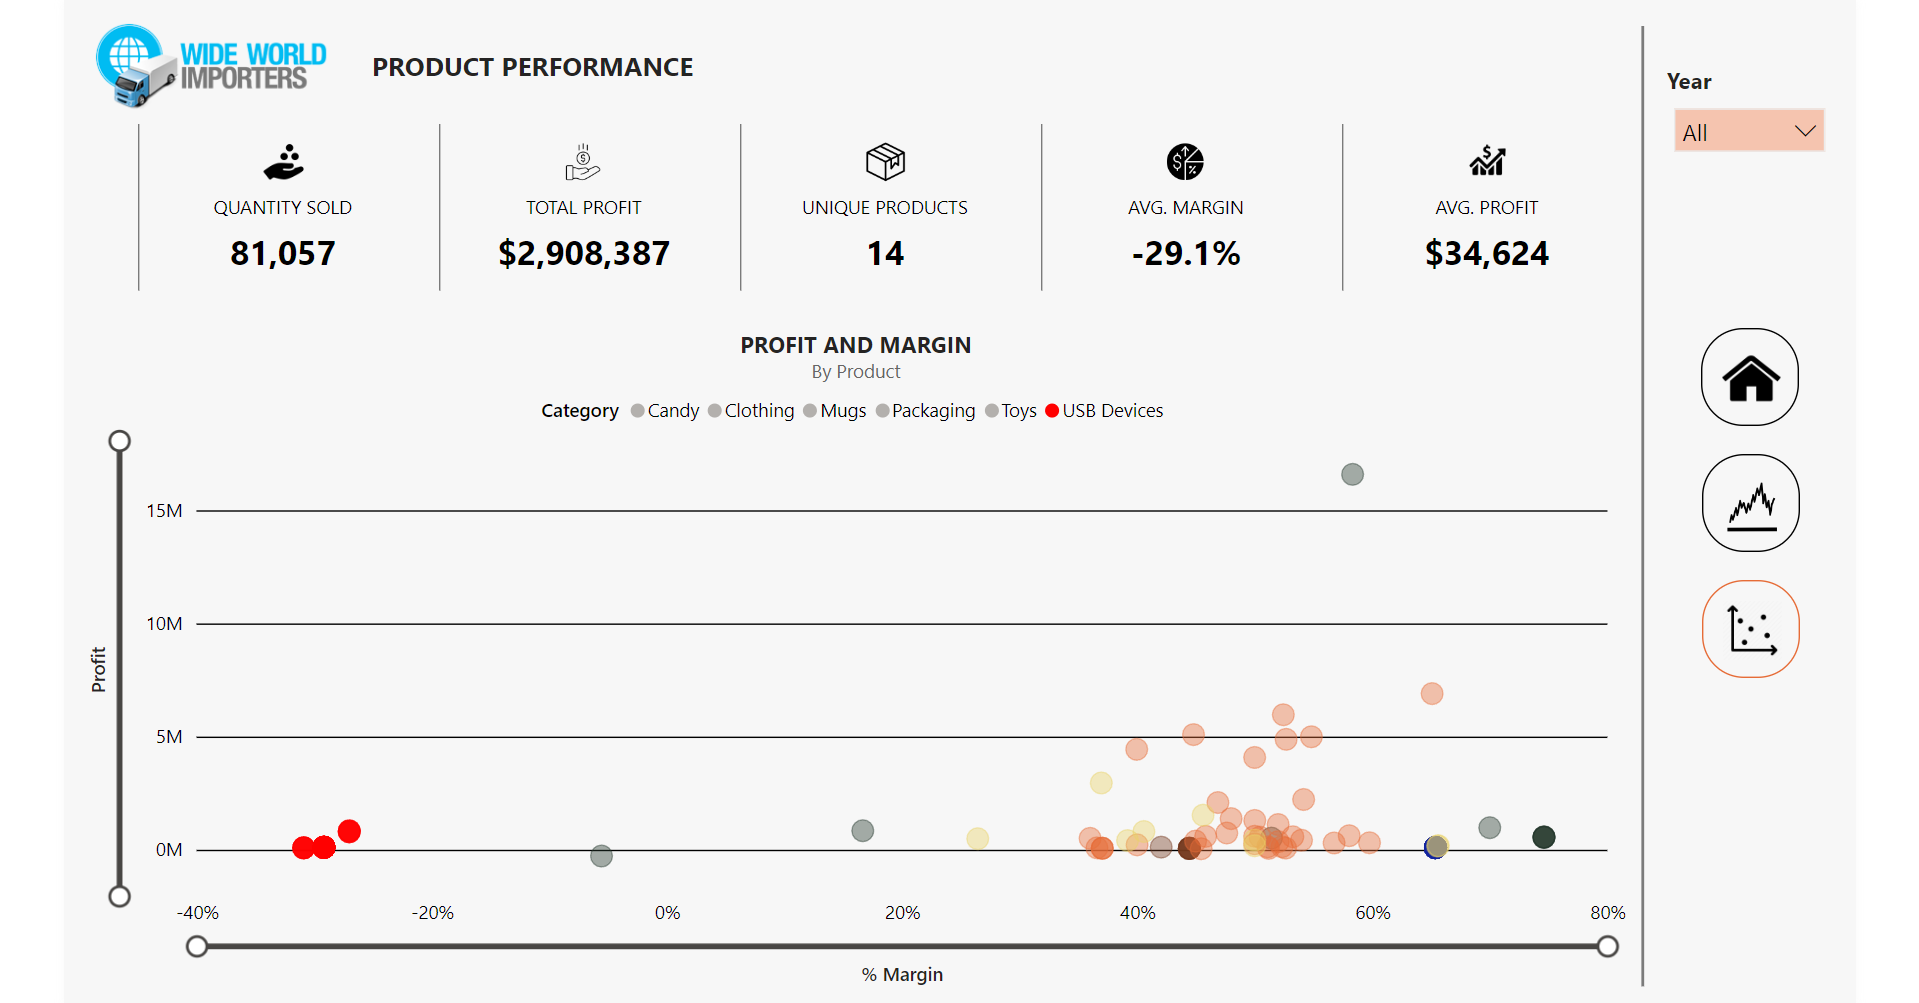

Layout of this report page (visuals, bound fields, positions):
{"tool":"powerbi","page":{"name":"Scatter Plot","canvas":[1280,720],"ordinal":2},"visuals":[{"type":"textbox","box":[215,29,550,49],"z":0},{"type":"image","box":[11,10,195,73],"z":1000},{"type":"shape","box":[1121.2,18.8,12.5,686],"z":2000},{"type":"scatterChart","title":"PROFIT AND MARGIN","fields":{"X":["Avg(product.PctMargin)"],"Category":["product.StockItemName"],"Series":["product.Category"],"Y":["Sum(product.LineProfit)"]},"box":[11,235,1110,470],"z":3000},{"type":"slicer","title":"Year","fields":{"Values":["product.Year"]},"box":[1140,46.6,128.1,66.3],"z":4000},{"type":"image","box":[1169.9,324.4,70,70],"z":5000},{"type":"image","box":[1169.5,234.6,70,70],"z":6000},{"type":"image","box":[1169.9,414.4,70,70],"z":7000},{"type":"cardVisual","fields":{"Data":["product.Quantity Sold","product.Total Profit","product.Unique Products","product.Average Margin","product.Average Profit"]},"box":[47.7,83.6,1080.6,129.4],"z":8000}]}

Visuals, with their boxes on the page's 1280x720 design canvas (x1, y1, x2, y2). These are canvas units, not pixel positions in the 1919x1003 screenshot, which may show the page scaled, cropped or inside an application window:
textbox: bbox(215, 29, 765, 78)
image: bbox(11, 10, 206, 83)
shape: bbox(1121, 19, 1134, 705)
"PROFIT AND MARGIN" scatterChart: bbox(11, 235, 1121, 705)
"Year" slicer: bbox(1140, 47, 1268, 113)
image: bbox(1170, 324, 1240, 394)
image: bbox(1170, 235, 1240, 305)
image: bbox(1170, 414, 1240, 484)
cardVisual - product.Quantity Sold x product.Total Profit: bbox(48, 84, 1128, 213)
